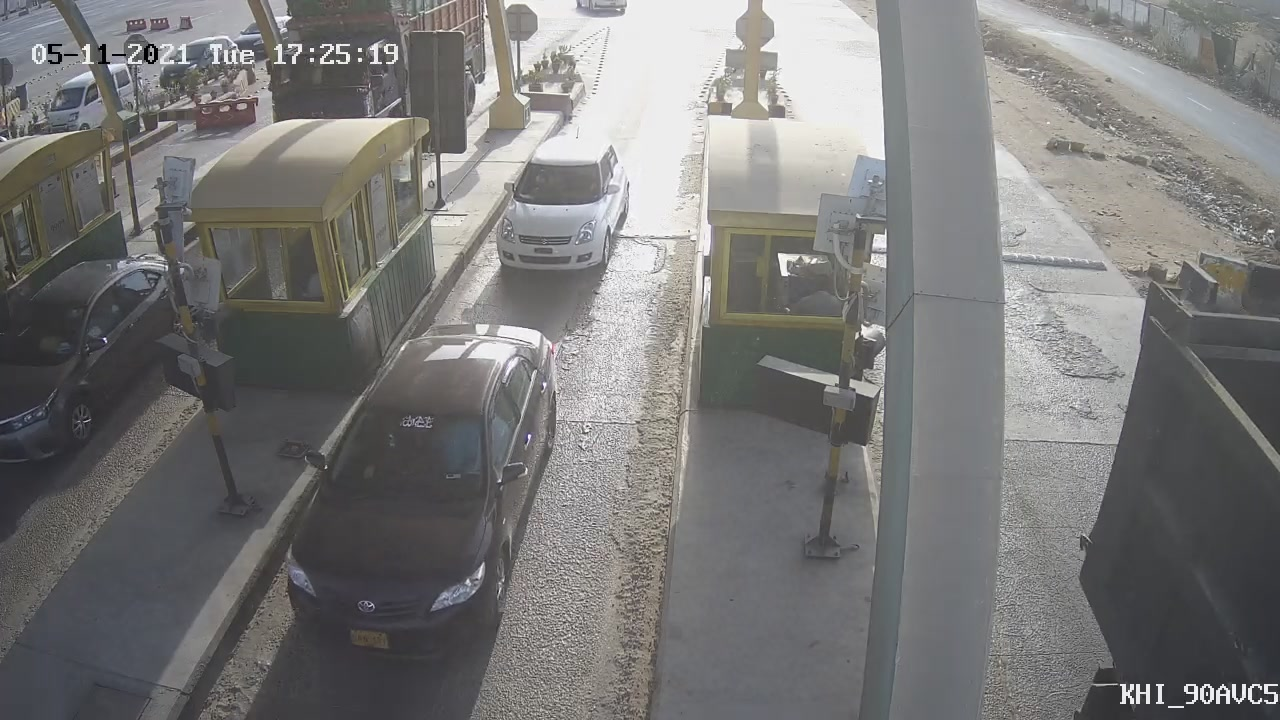F1: (473, 122, 646, 303)
